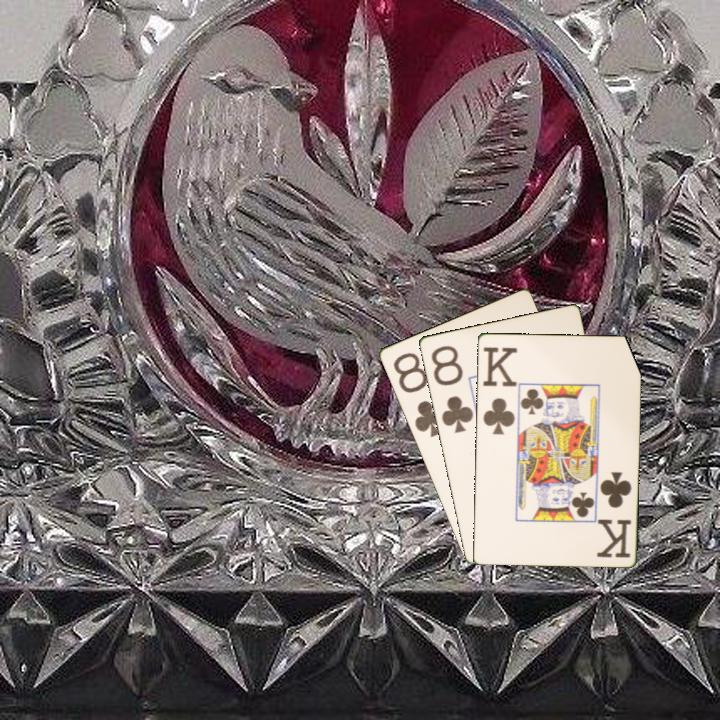8c: (389, 349, 448, 440), (427, 342, 476, 436)
Kc: (479, 343, 519, 438), (595, 468, 634, 560)
